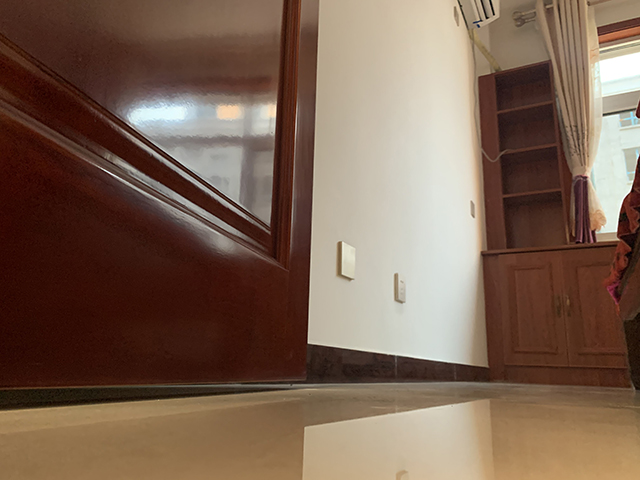cabinet: (478, 239, 617, 388)
